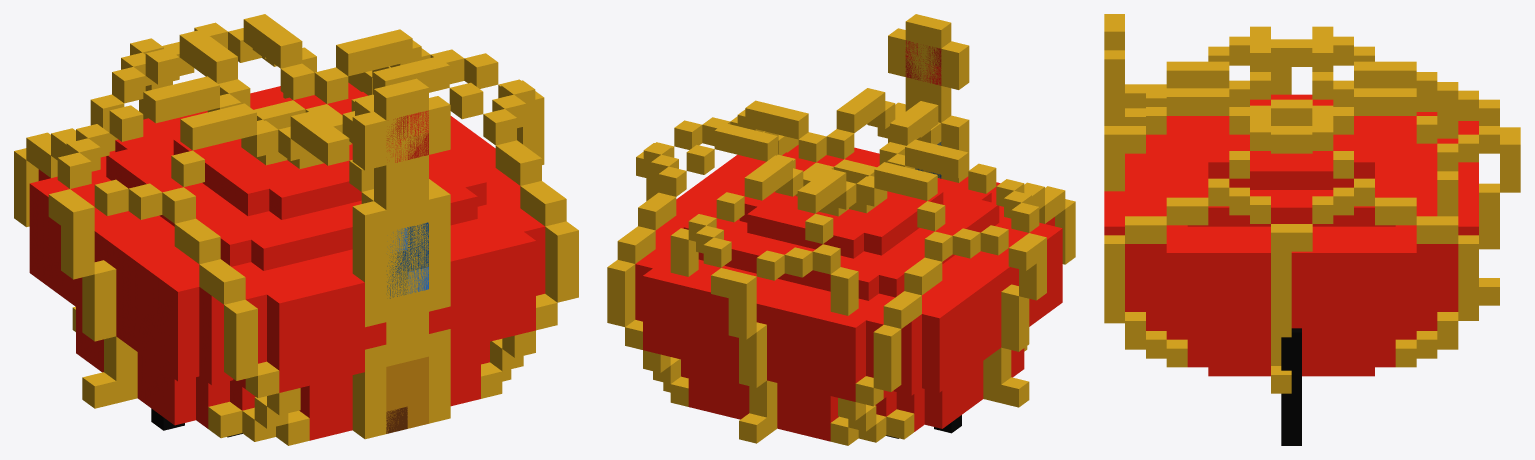
The model's file is crownqueen.glb.
3 views of the same model, side by side, from view 1: azimuth 30°, elevation 25°; view 2: azimuth 150°, elevation 25°; view 3: azimuth 270°, elevation 25° (orthographic). The views are drawn at different scales.
Visible parts, largest first — view 1: base-top, gems, front; view 2: base-top, gems; view 3: base-top, glasses.
Boxes of the visible parts, bbox=[...] form: base-top: bbox=[14, 14, 578, 445]; gems: bbox=[386, 110, 428, 298]; front: bbox=[386, 356, 428, 433]; base-top: bbox=[607, 14, 1075, 445]; gems: bbox=[905, 40, 941, 178]; base-top: bbox=[1104, 14, 1520, 393]; glasses: bbox=[1281, 328, 1301, 445].
Size of the model in its own units: 22 by 18 by 20.
Materials: 14 (14 with a texture image).
